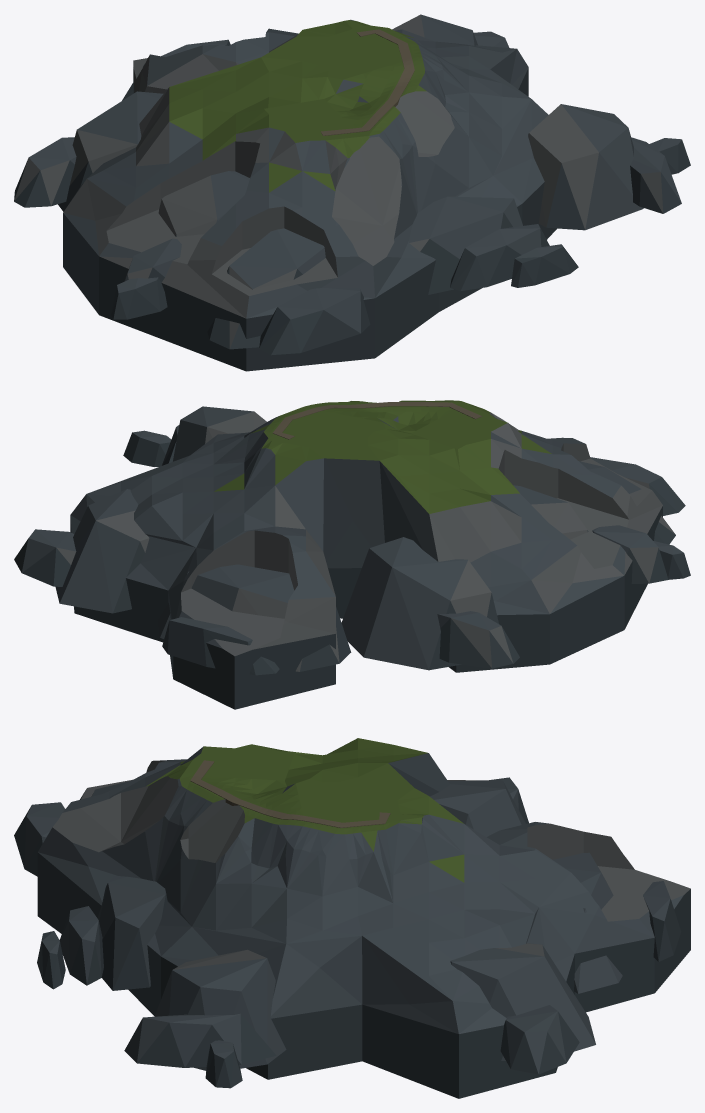
File: island_c.glb
The picture shows the model from 3 angles, top to bottom: view 1: azimuth 30°, elevation 25°; view 2: azimuth 150°, elevation 25°; view 3: azimuth 270°, elevation 25°; orthographic projection. The views are drawn at different scales.
Parts seen in each view (by area): view 1: island_c_Coast short olive grass, island_c_Coast blue grey bedrock, island_c_Coast weathered stone footpath; view 2: island_c_Coast short olive grass, island_c_Coast blue grey bedrock, island_c_Coast weathered stone footpath; view 3: island_c_Coast short olive grass, island_c_Coast blue grey bedrock, island_c_Coast weathered stone footpath.
Boxes of the visible parts, x1,y1,x2,y2 form: island_c_Coast short olive grass: (63, 19, 556, 371); island_c_Coast blue grey bedrock: (14, 14, 690, 355); island_c_Coast weathered stone footpath: (320, 29, 414, 135); island_c_Coast short olive grass: (70, 400, 662, 709); island_c_Coast blue grey bedrock: (14, 406, 690, 675); island_c_Coast weathered stone footpath: (272, 402, 482, 439); island_c_Coast short olive grass: (37, 738, 690, 1098); island_c_Coast blue grey bedrock: (14, 777, 681, 1088); island_c_Coast weathered stone footpath: (190, 760, 390, 827).
Size of the model in its own units: 64.61 by 17.59 by 60.
